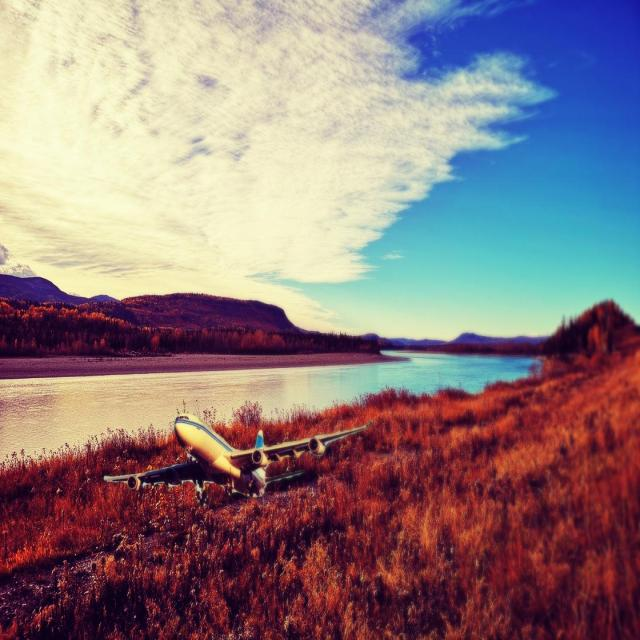airplane: (102, 410, 374, 509)
